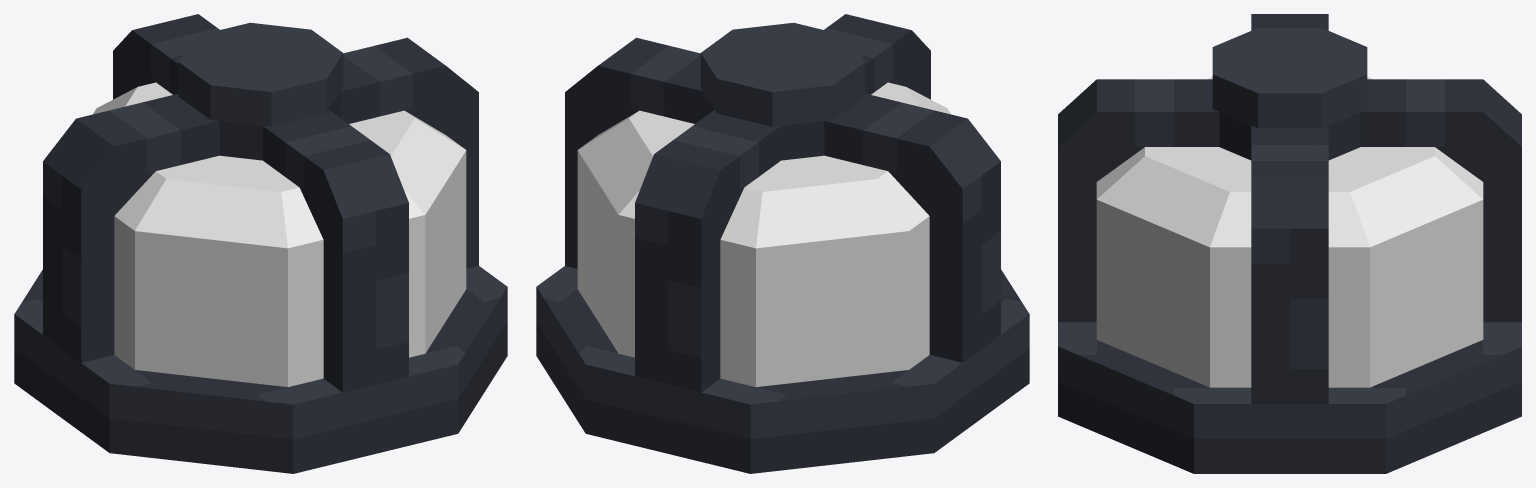
The model's file is SubmissionLight.fbx.
3 renders of one model, left to right at view 1: azimuth 30°, elevation 25°; view 2: azimuth 150°, elevation 25°; view 3: azimuth 270°, elevation 25°, orthographic.
Parts seen in each view (by area): view 1: Base, Light; view 2: Base, Light; view 3: Base, Light.
Part boxes in pixels (x1,y1,x2,y2): Base: (14, 14, 507, 473); Light: (93, 82, 466, 386); Base: (536, 14, 1029, 473); Light: (577, 82, 950, 386); Base: (1058, 14, 1521, 473); Light: (1096, 77, 1483, 387).
Bounding box in the file's own units: 75 × 56.25 × 75.
